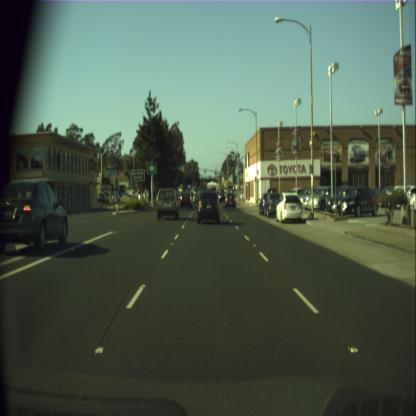Red: (215, 169, 216, 175)
Yellow: (204, 167, 206, 173)
